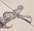microplastic: (1, 3, 33, 29)
